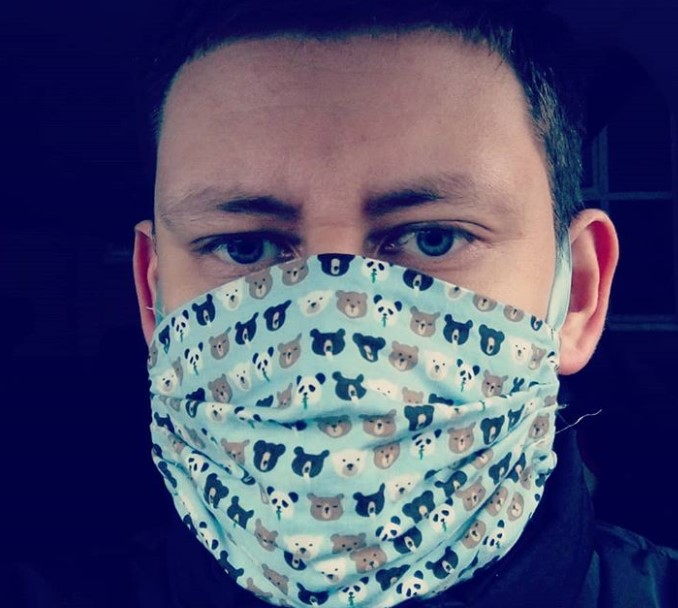face_with_mask: (127, 5, 627, 608)
